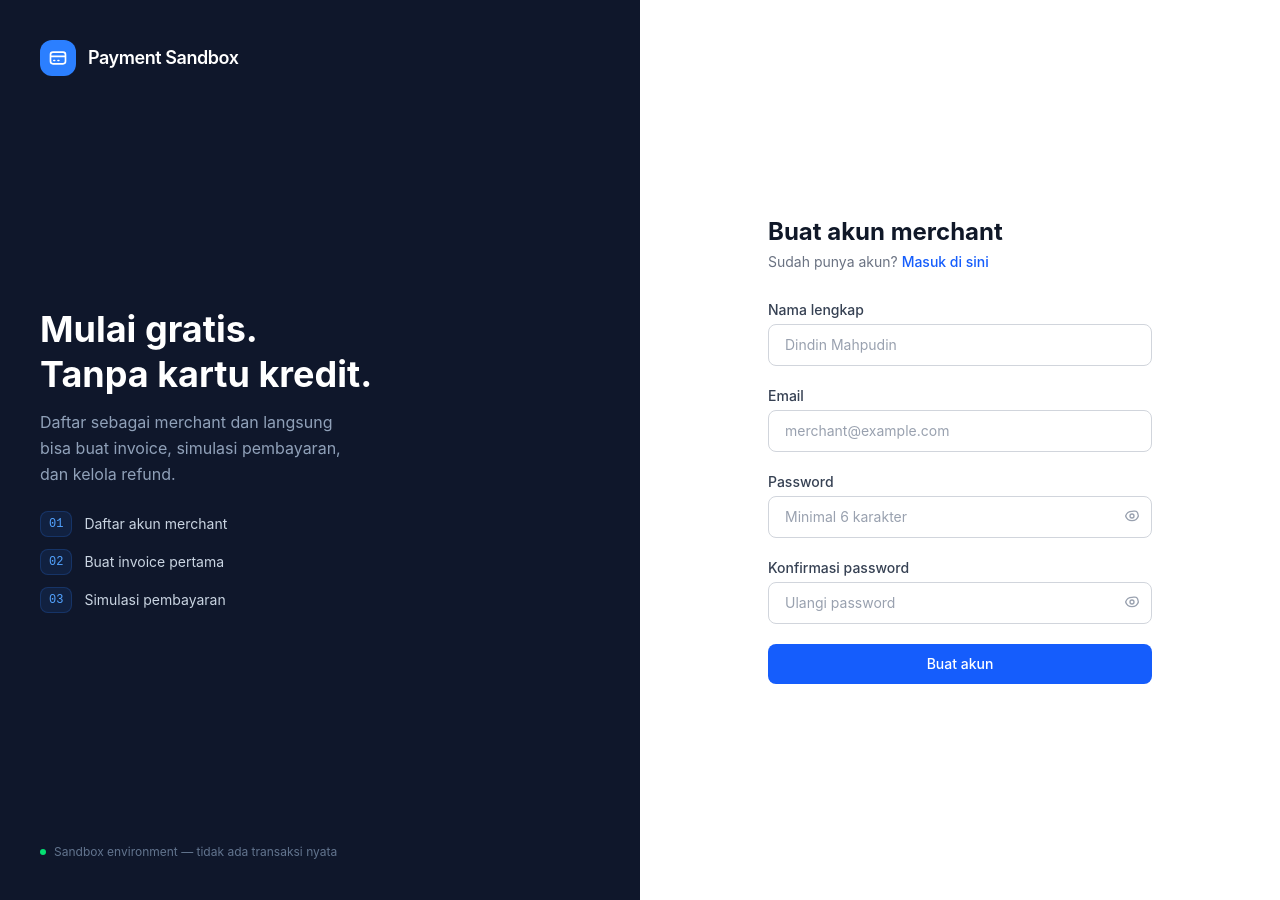
it: RegisterPage › shows validation errors when submitted empty
Click the button "Buat akun" at point(960, 664), box [768, 644, 1152, 684]
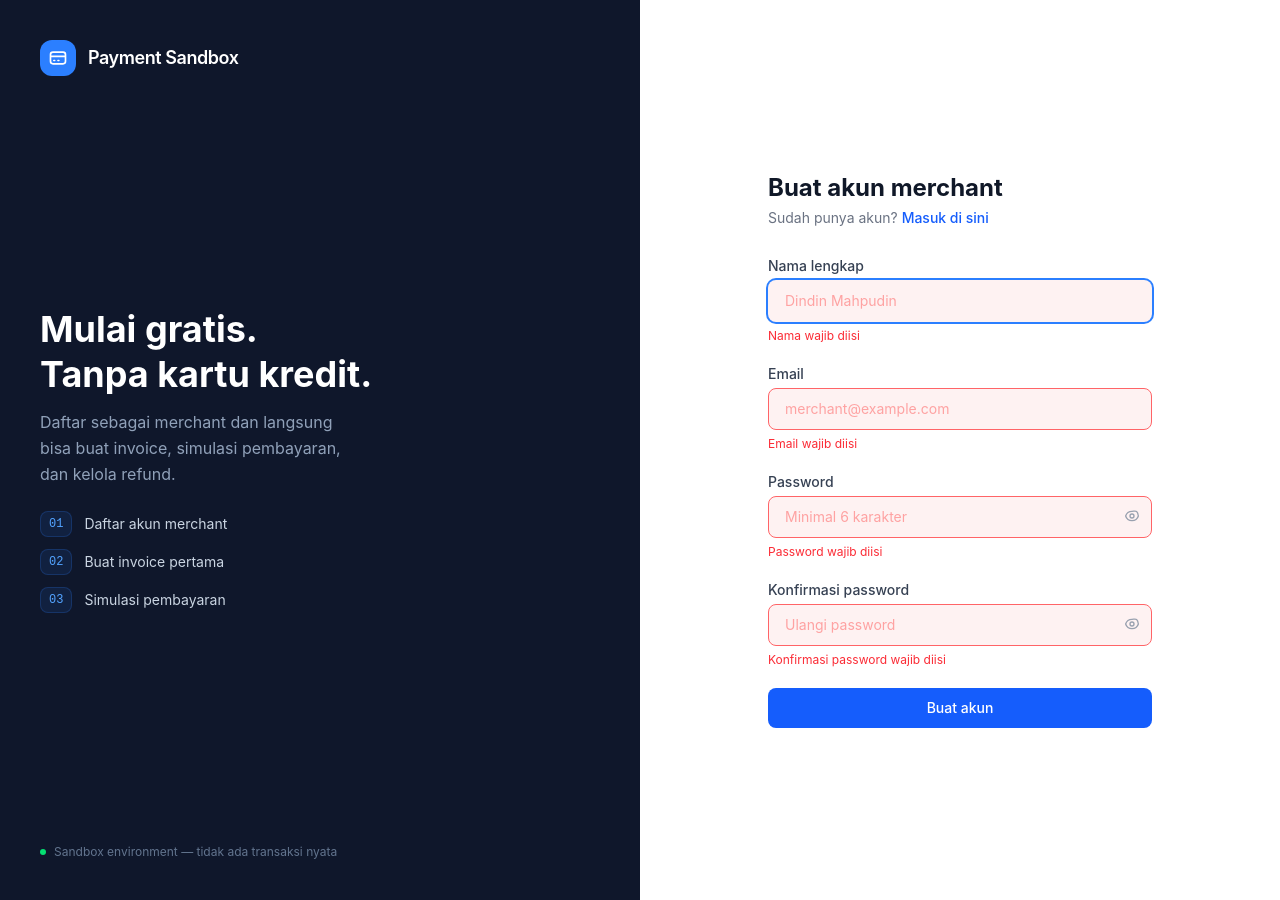
Expected: the text "Nama wajib diisi" is shown, [768, 328, 860, 343]
Expected: the text "Email wajib diisi" is shown, [768, 436, 857, 451]
Expected: the text "Password wajib diisi" is shown, [768, 544, 882, 559]
